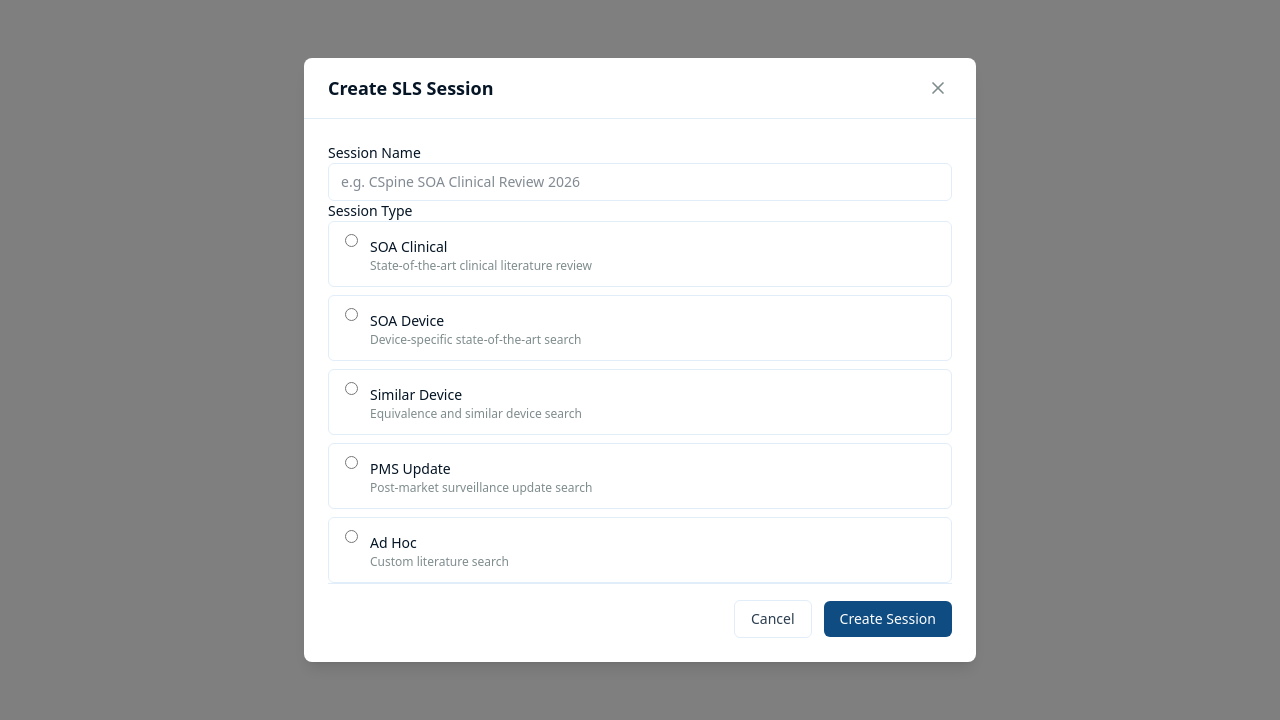
Test: SessionCreateForm › shows validation errors when submitting empty form
The width and height of the screenshot is (1280, 720).
Click the button with test id "create-button": (888, 619) [824, 601, 952, 637]
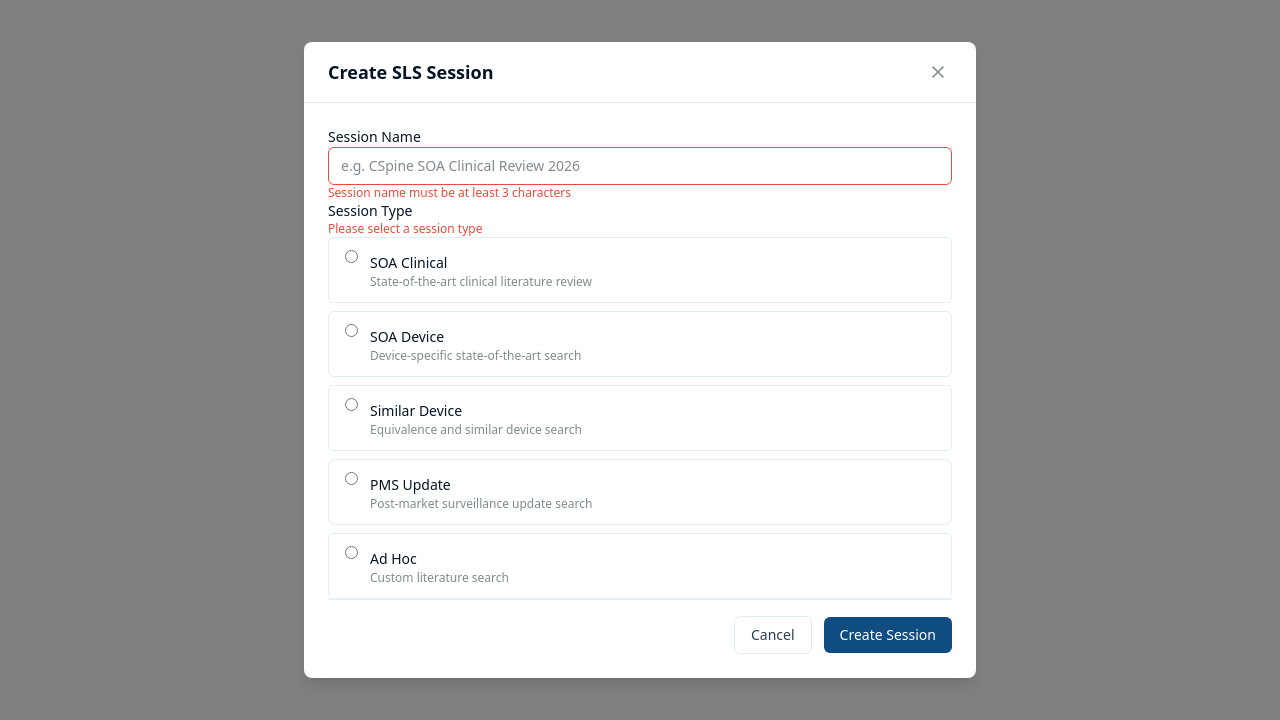
Result: the text "Session name must be at least 3 characters" is shown at [328, 184, 571, 201]
Result: the text "Please select a session type" is shown at [328, 220, 482, 237]
